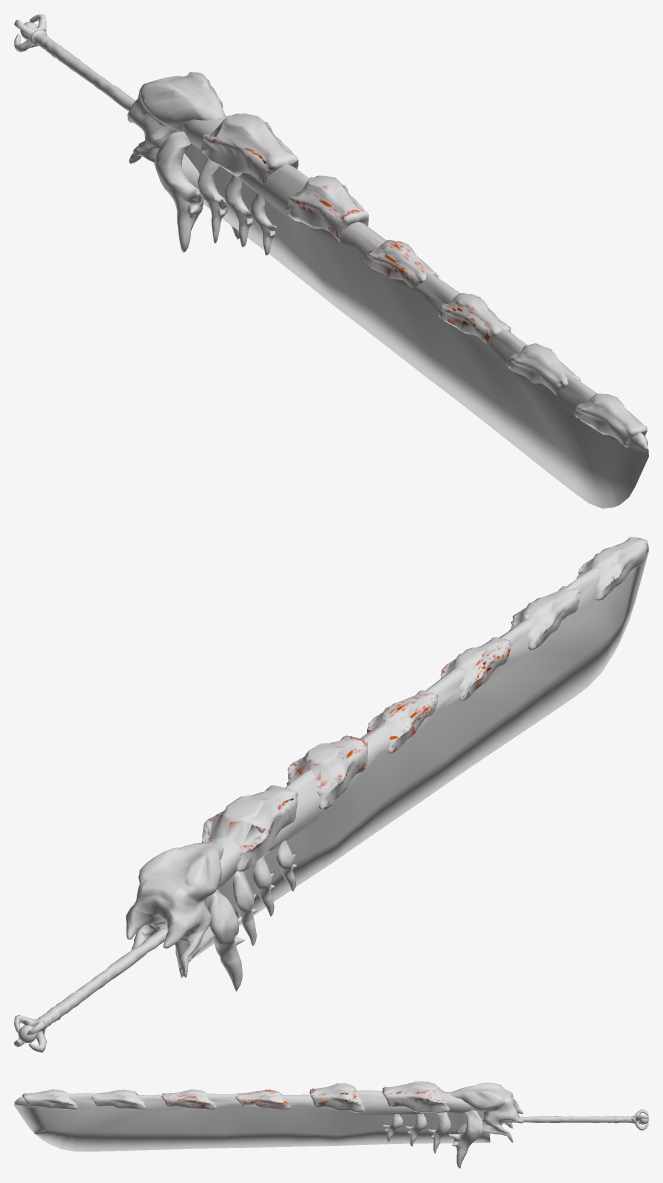
The model's file is SM_MCweapon.fbx.
The picture shows the model from 3 angles, top to bottom: view 1: azimuth 30°, elevation 25°; view 2: azimuth 150°, elevation 25°; view 3: azimuth 270°, elevation 25°; orthographic projection. The views are drawn at different scales.
Visible parts, largest first — view 1: Weapon_beastborn_low; view 2: Weapon_beastborn_low; view 3: Weapon_beastborn_low.
Part boxes in pixels (x1=…): Weapon_beastborn_low: x1=14, y1=14, x2=648, y2=508; Weapon_beastborn_low: x1=14, y1=537, x2=648, y2=1052; Weapon_beastborn_low: x1=14, y1=1081, x2=648, y2=1168.
Size of the model in its own units: 15.82 by 29.34 by 215.
